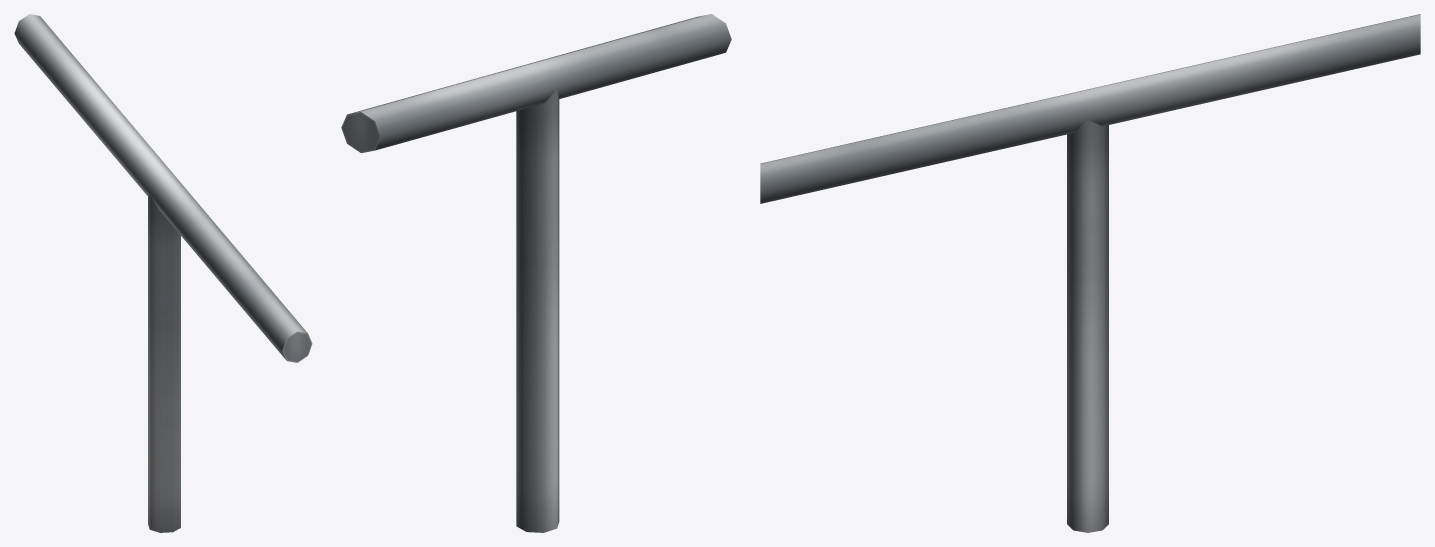
Rendered from set_handrail_slope_loop.fbx.
The picture shows the model from 3 angles, left to right: view 1: azimuth 30°, elevation 25°; view 2: azimuth 150°, elevation 25°; view 3: azimuth 270°, elevation 25°; orthographic projection. The views are drawn at different scales.
Visible parts, largest first — view 1: set_handrail_slope_loop; view 2: set_handrail_slope_loop; view 3: set_handrail_slope_loop.
Boxes of the visible parts, x1,y1,x2,y2 form: set_handrail_slope_loop: (14,14,312,532); set_handrail_slope_loop: (341,14,731,532); set_handrail_slope_loop: (760,14,1420,532).
Size of the model in its own units: 6.29 by 82.25 by 96.64.
